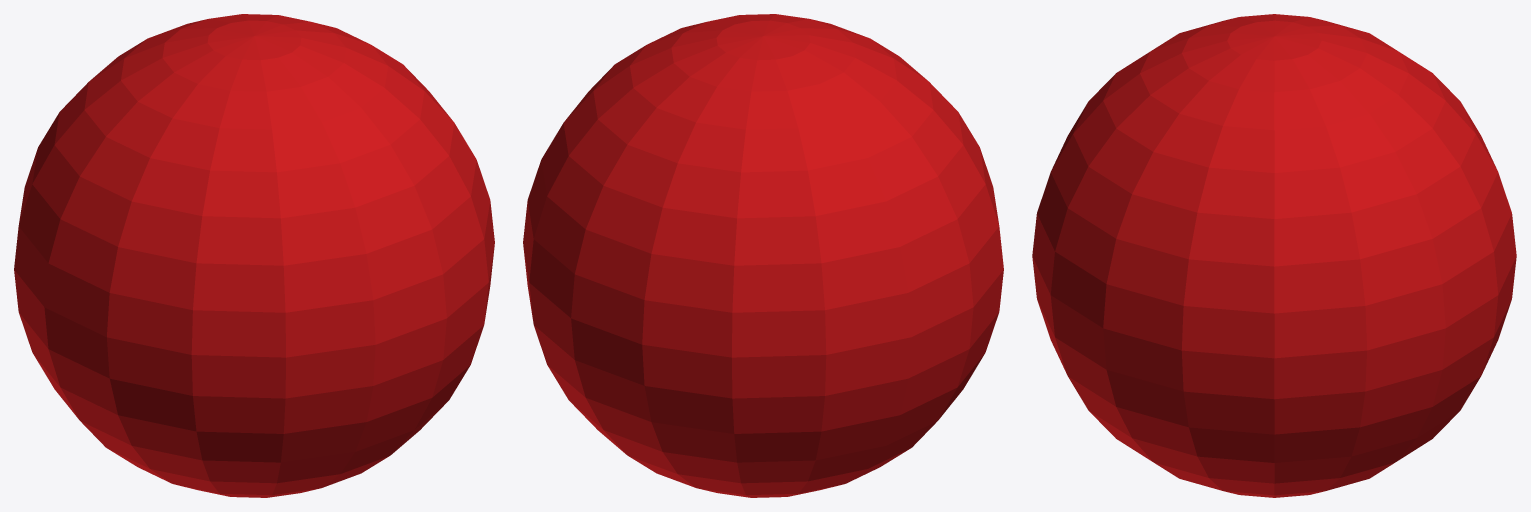
File: fire.obj
3 renders of one model, left to right at view 1: azimuth 30°, elevation 25°; view 2: azimuth 150°, elevation 25°; view 3: azimuth 270°, elevation 25°, orthographic.
Visible parts, largest first — view 1: 球; view 2: 球; view 3: 球.
Boxes of the visible parts, left/top/right/bottom form: 球: left=14, top=14, right=494, bottom=497; 球: left=523, top=14, right=1003, bottom=497; 球: left=1032, top=14, right=1516, bottom=497.
Bounding box in the file's own units: 2 × 2 × 2.
